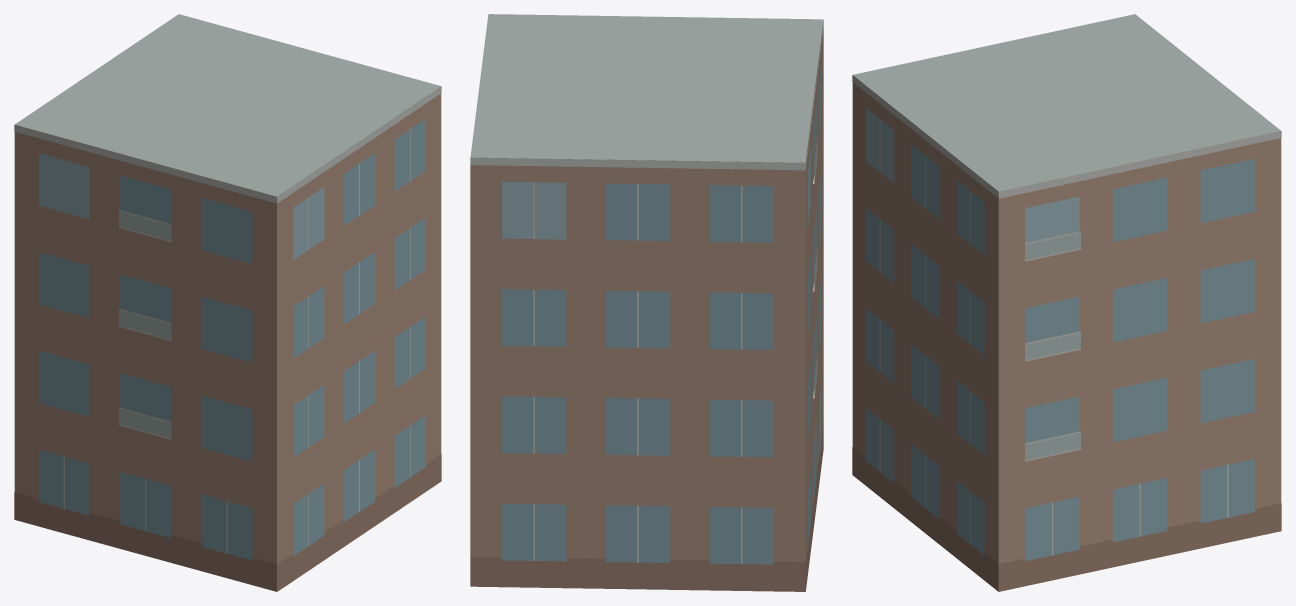
The model's file is survey-upis-32826727.glb.
3 views of the same model, side by side, from view 1: azimuth 30°, elevation 25°; view 2: azimuth 150°, elevation 25°; view 3: azimuth 270°, elevation 25° (orthographic). The views are drawn at different scales.
Parts seen in each view (by area): view 1: survey-upis-32826727.tmp; view 2: survey-upis-32826727.tmp; view 3: survey-upis-32826727.tmp.
Boxes of the visible parts, x1,y1,x2,y2 form: survey-upis-32826727.tmp: [14, 14, 441, 591]; survey-upis-32826727.tmp: [470, 14, 823, 591]; survey-upis-32826727.tmp: [852, 14, 1281, 591].
Bounding box in the file's own units: 13.22 × 13.88 × 13.49.
